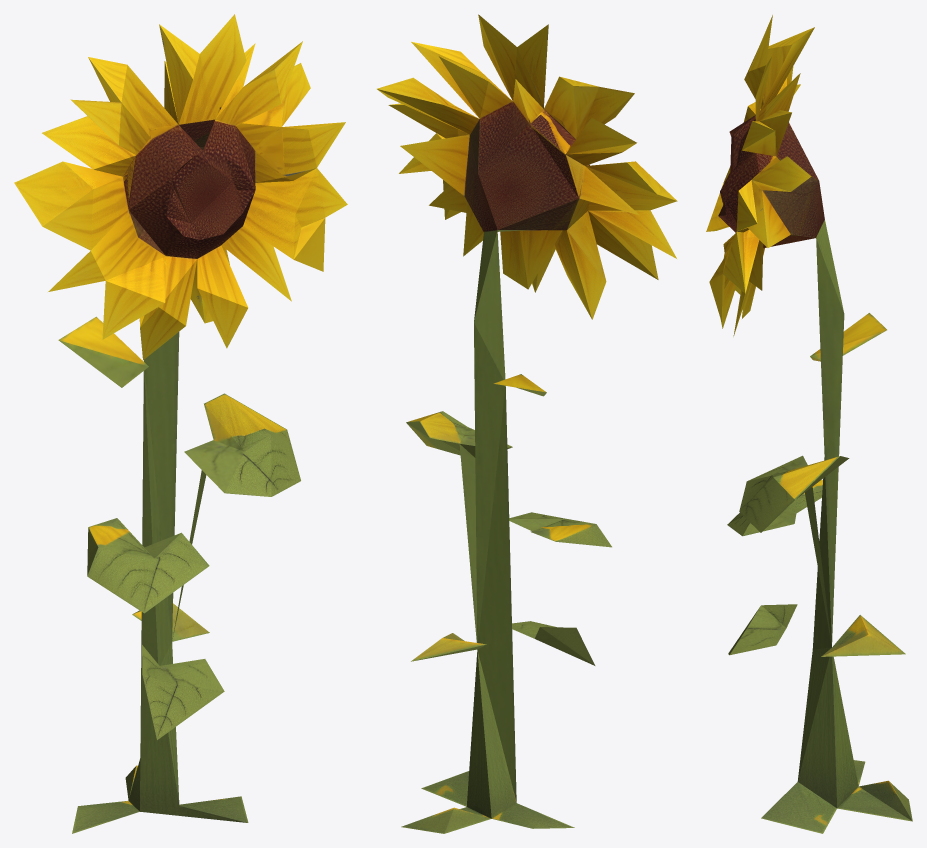
The model's file is sunflowers.glb.
3 views of the same model, side by side, from view 1: azimuth 30°, elevation 25°; view 2: azimuth 150°, elevation 25°; view 3: azimuth 270°, elevation 25° (orthographic). The views are drawn at different scales.
Size of the model in its own units: 0.751 by 1.9 by 0.4629.
1 material, 1 textured.
